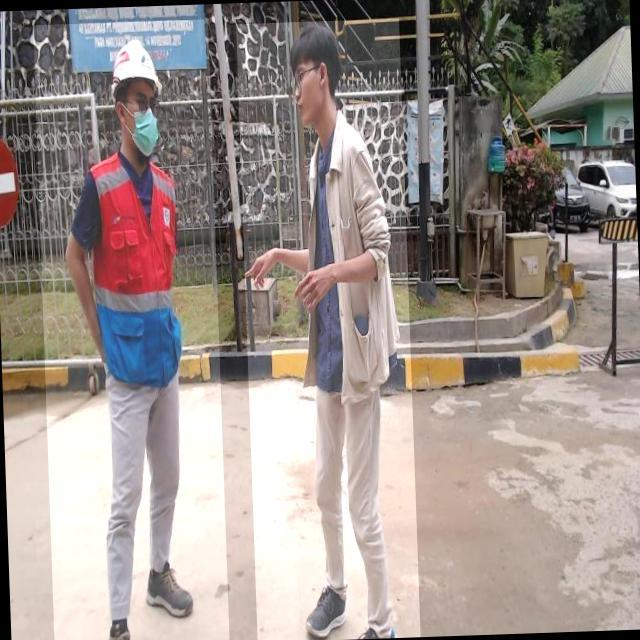Helmet: (105, 37, 163, 103)
Human: (32, 18, 229, 640), (235, 18, 420, 640)
Safety Boot: (144, 559, 194, 620), (302, 583, 347, 640), (107, 611, 131, 640)
Safety Vest: (85, 150, 185, 379)
